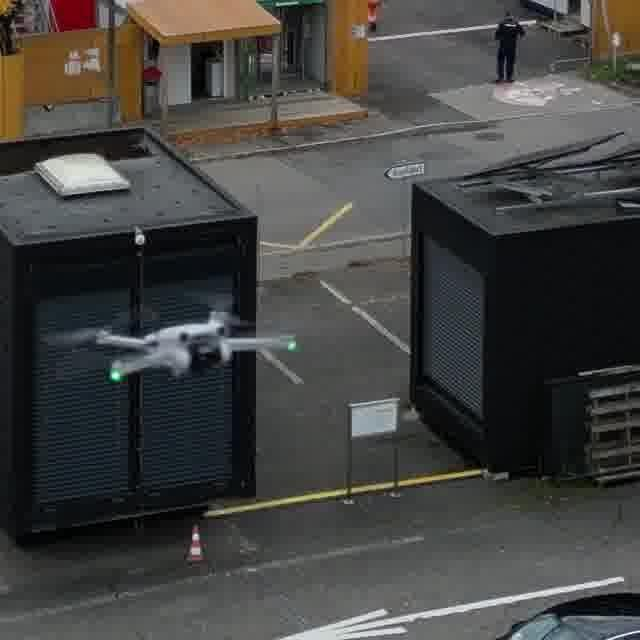Drohne: (45, 296, 297, 382)
